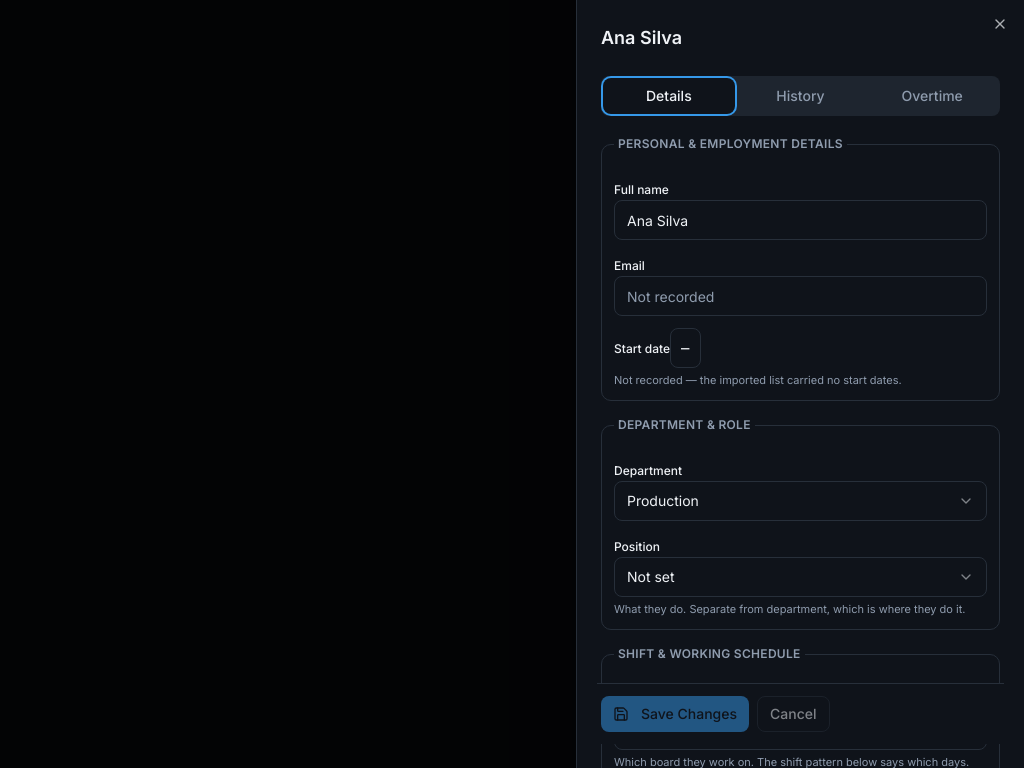
Test: Edit Employee, as one form › Cancel puts every field back and disables Save again
The image size is (1024, 768).
Replace the text in the field labelled "Full name" with "Ana Souza" at (800, 220), box [614, 200, 987, 240]
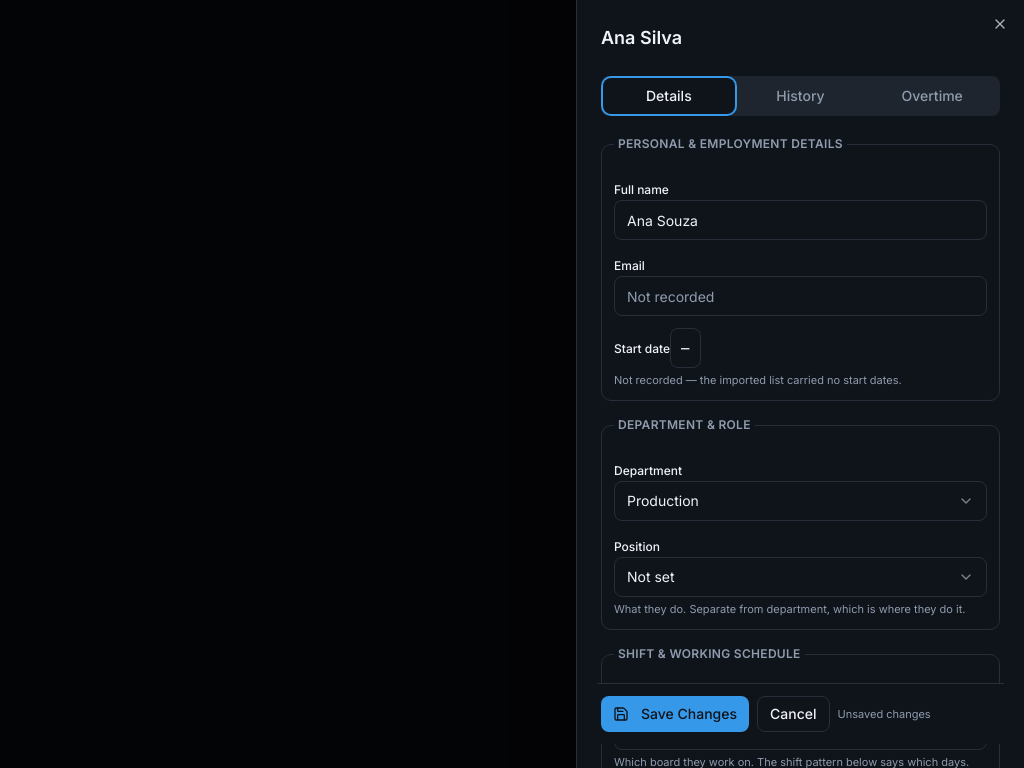
Result: the button "Save Changes" is enabled at [601, 696, 749, 732]
Result: the text "Unsaved changes" is shown at [838, 706, 931, 722]
Click the button "Cancel" at (793, 714), box [757, 696, 830, 732]
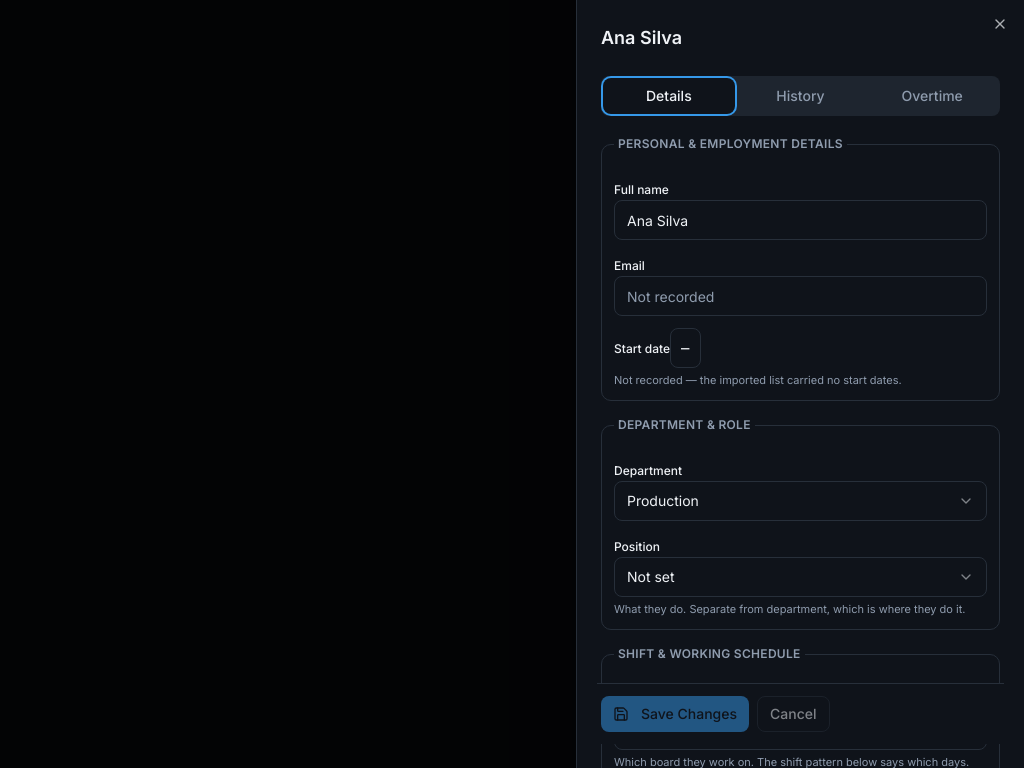
Result: the field labelled "Full name" holds "Ana Silva" at [614, 200, 987, 240]
Result: the button "Save Changes" is disabled at [601, 696, 749, 732]
